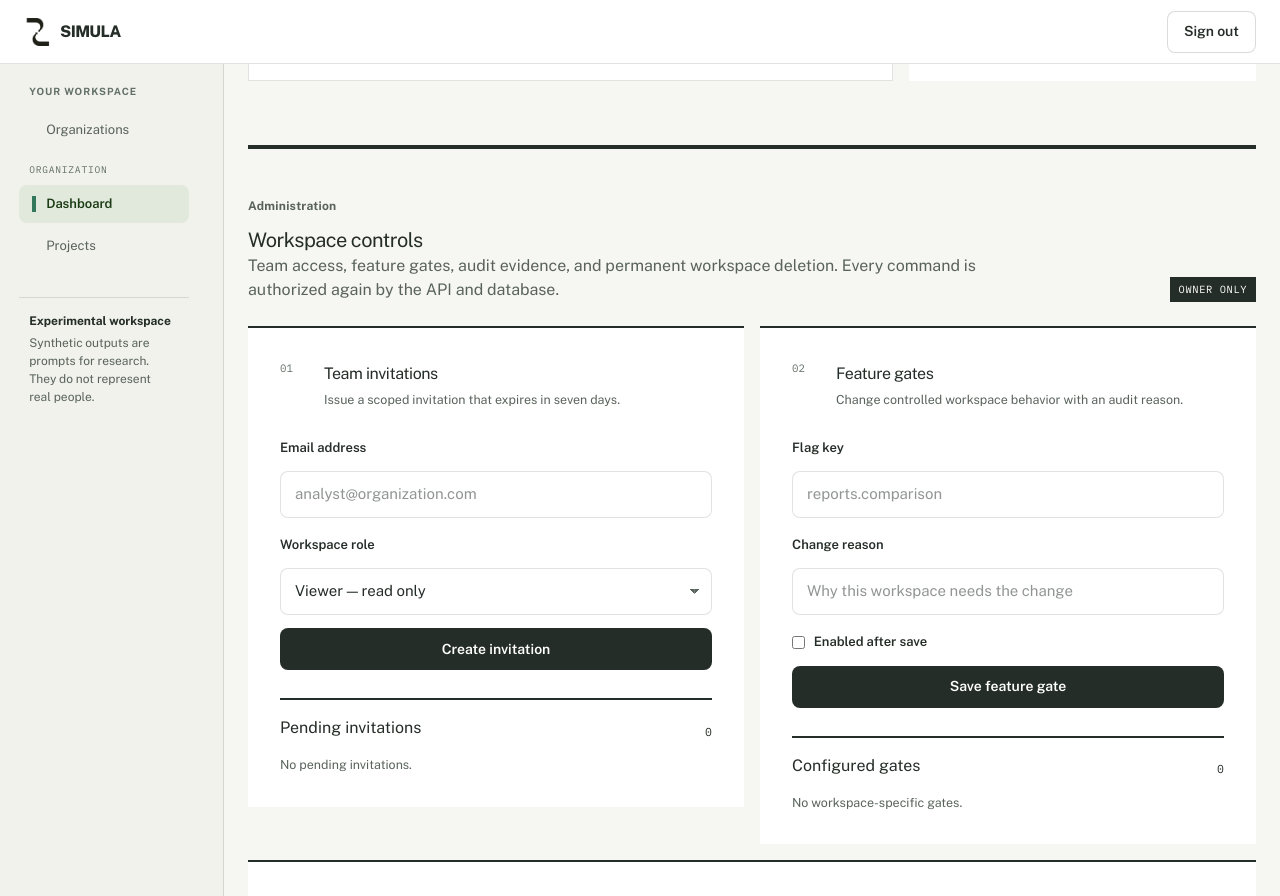
Test: OrganizationDashboardWorkspace › creates an owner invitation and reveals its one-time token
(page scrolled)
Expected: the heading "Team invitations" is shown, 324,364 -> 438,383
Step 1. Type "  analyst@meridian.test  " into the field labelled "Email address" → coordinates (496, 494), box 280,471 -> 712,518
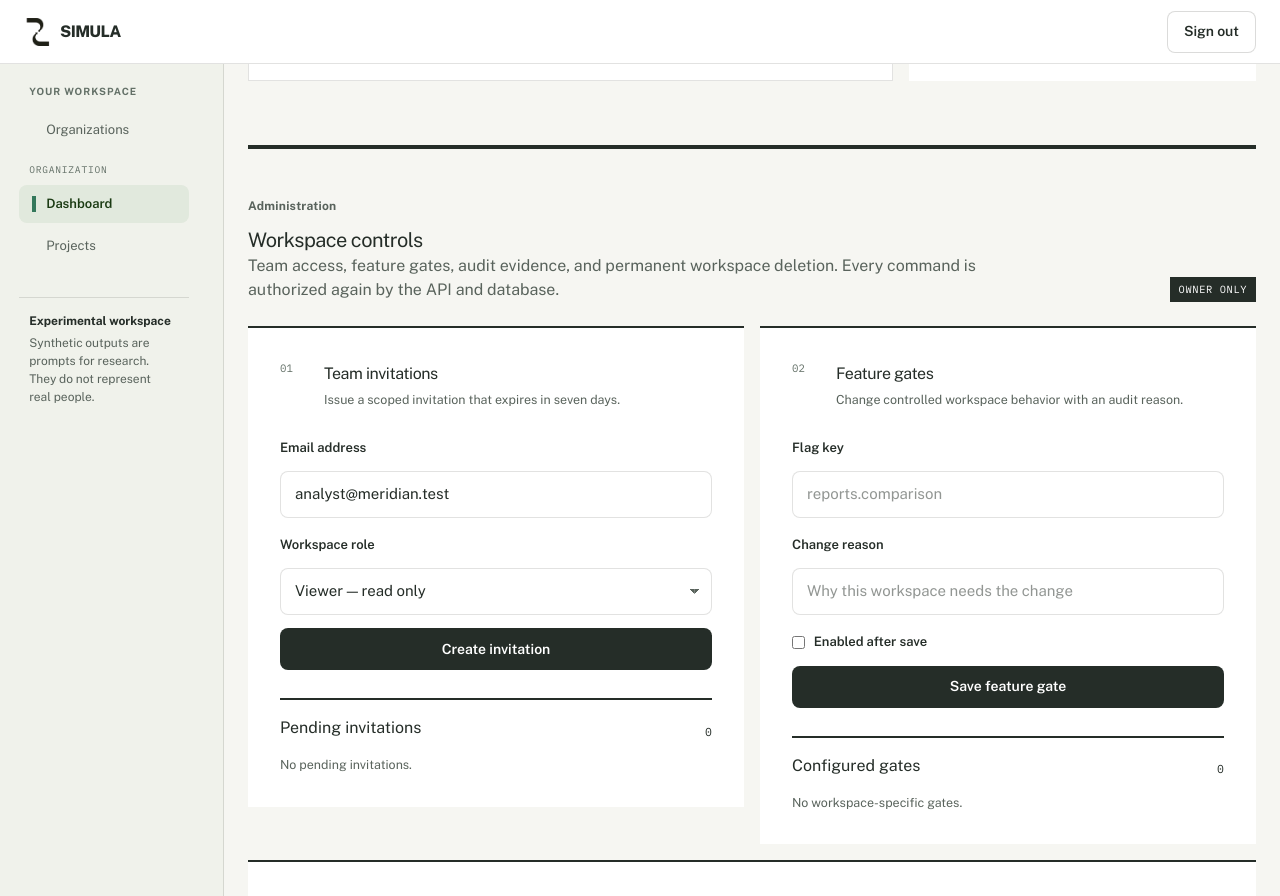
Step 2. Select "Editor — create and run" in the dropdown labelled "Workspace role" → coordinates (496, 592), box 280,568 -> 712,615
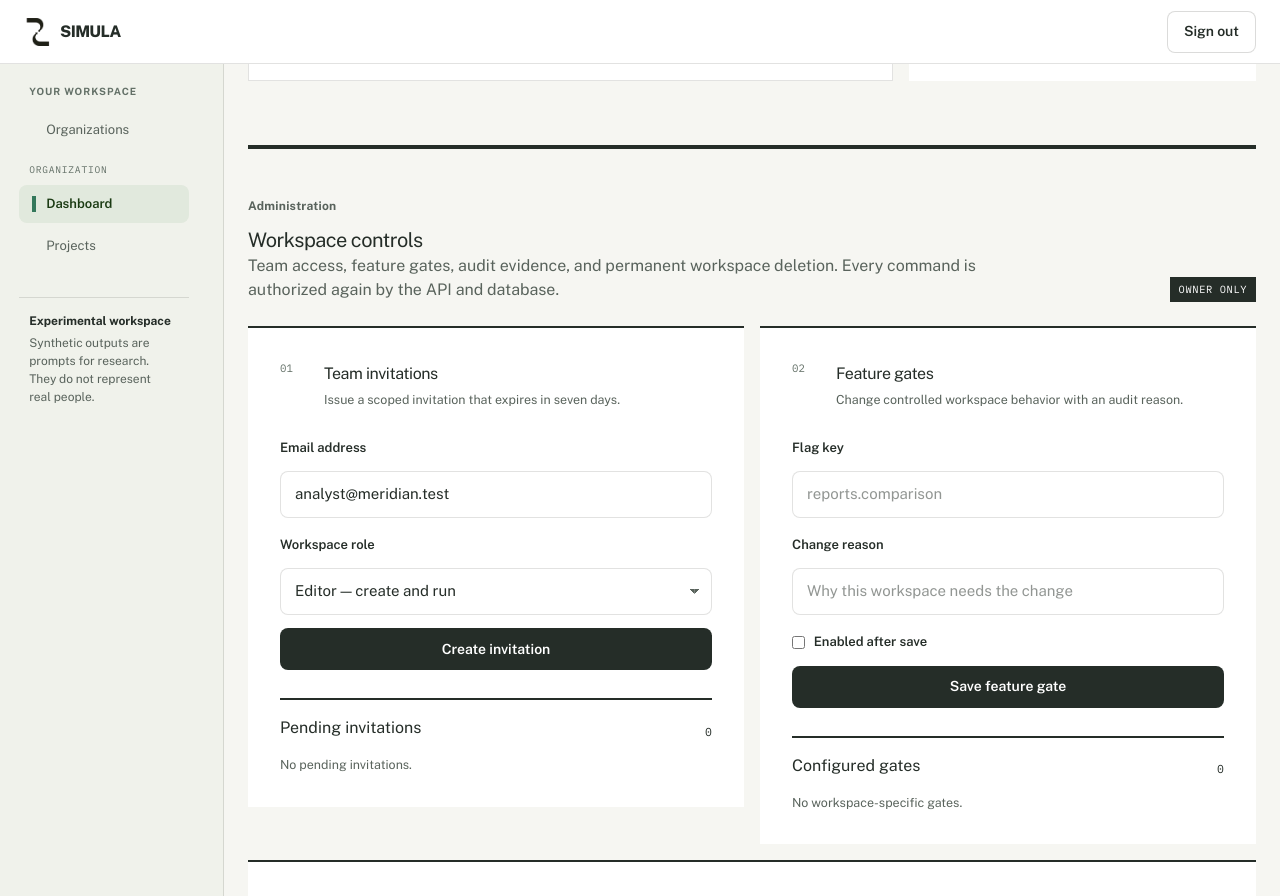
Step 3. Click the button "Create invitation" → coordinates (496, 650), box 280,628 -> 712,670
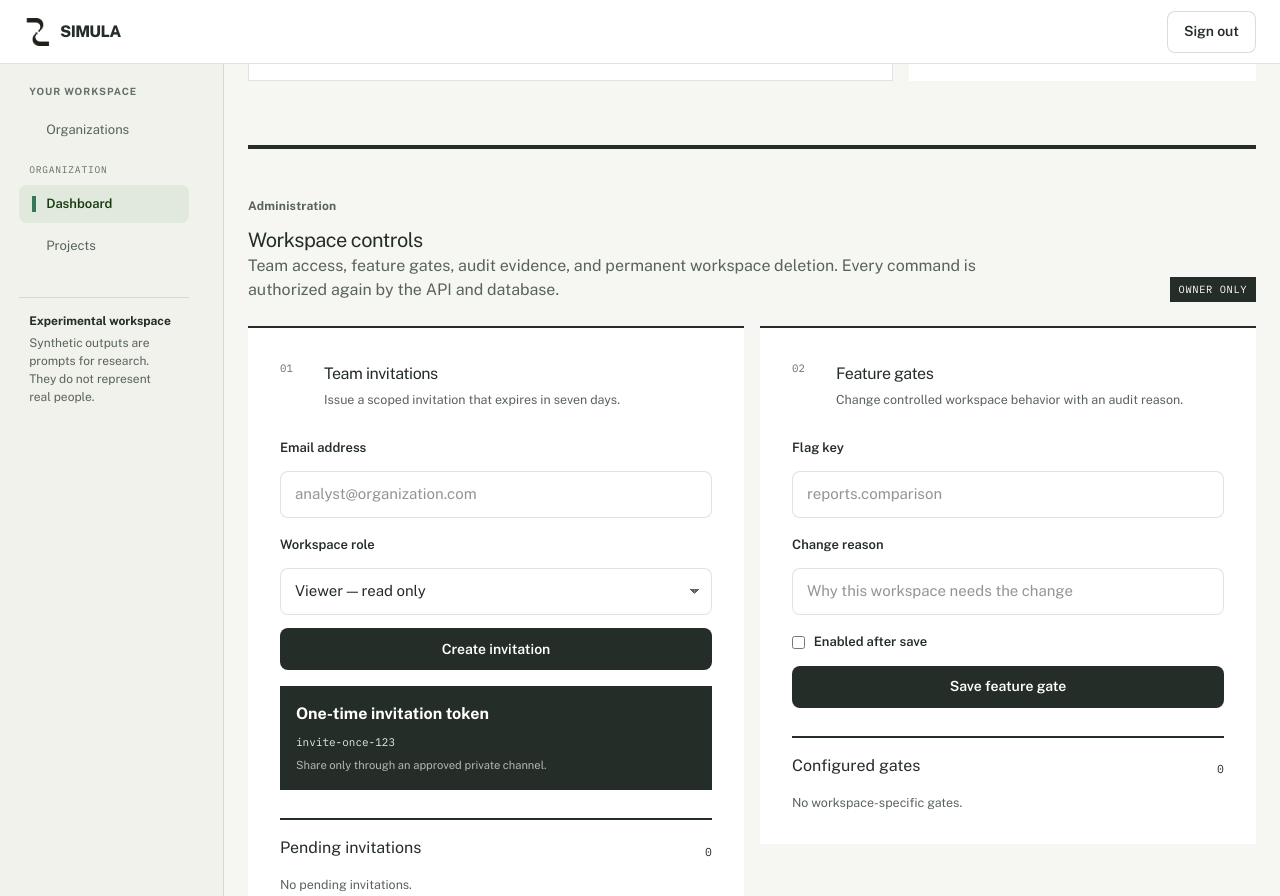
Now the text "invite-once-123" is shown, box 296,735 -> 395,749
